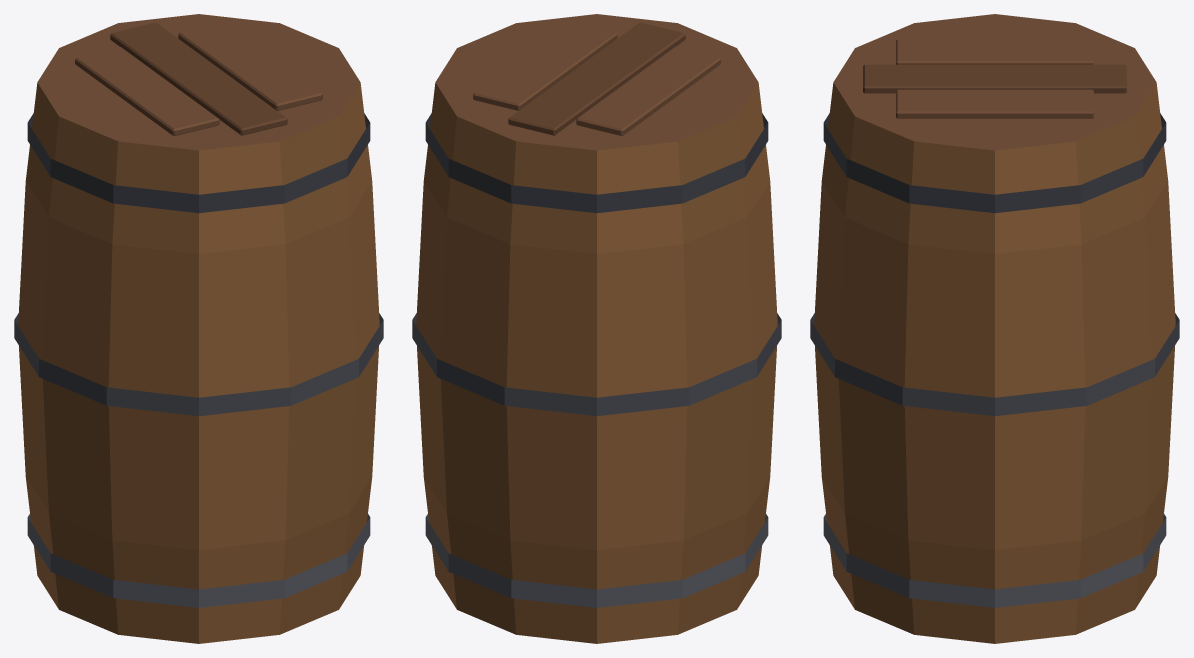
File: barrel.glb
3 renders of one model, left to right at view 1: azimuth 30°, elevation 25°; view 2: azimuth 150°, elevation 25°; view 3: azimuth 270°, elevation 25°, orthographic.
Parts seen in each view (by area): view 1: Wood, Iron; view 2: Wood, Iron; view 3: Wood, Iron.
Part boxes in pixels (x1,y1,x2,y2): Wood: [18, 14, 379, 643]; Iron: [14, 113, 383, 607]; Wood: [416, 14, 777, 643]; Iron: [412, 113, 781, 607]; Wood: [814, 14, 1175, 643]; Iron: [810, 113, 1179, 607].
Bounding box in the file's own units: 2.17 × 3.25 × 2.17.
Materials: 2 (2 with a texture image).
